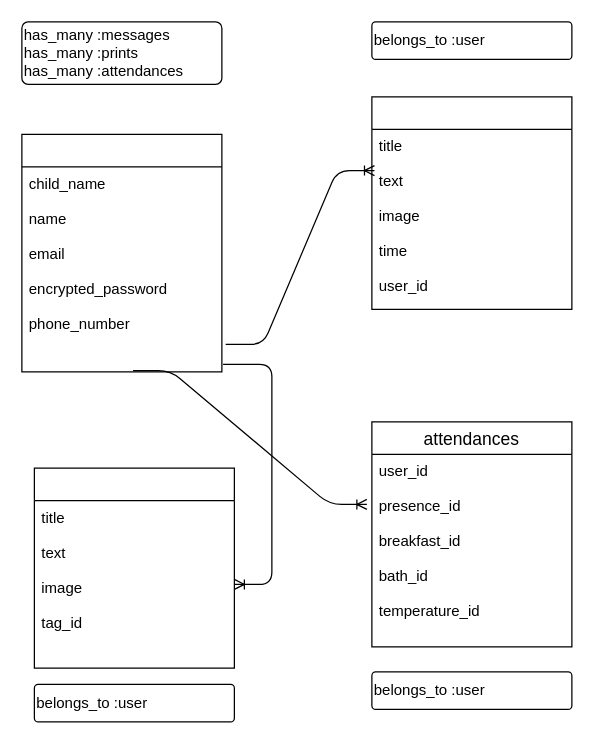
This 594x744 diagram has some shape labels left out. Each missing label, with the box of its shape:
messages: (371, 96, 572, 309)
print: (33, 467, 234, 668)
users: (21, 133, 222, 372)
